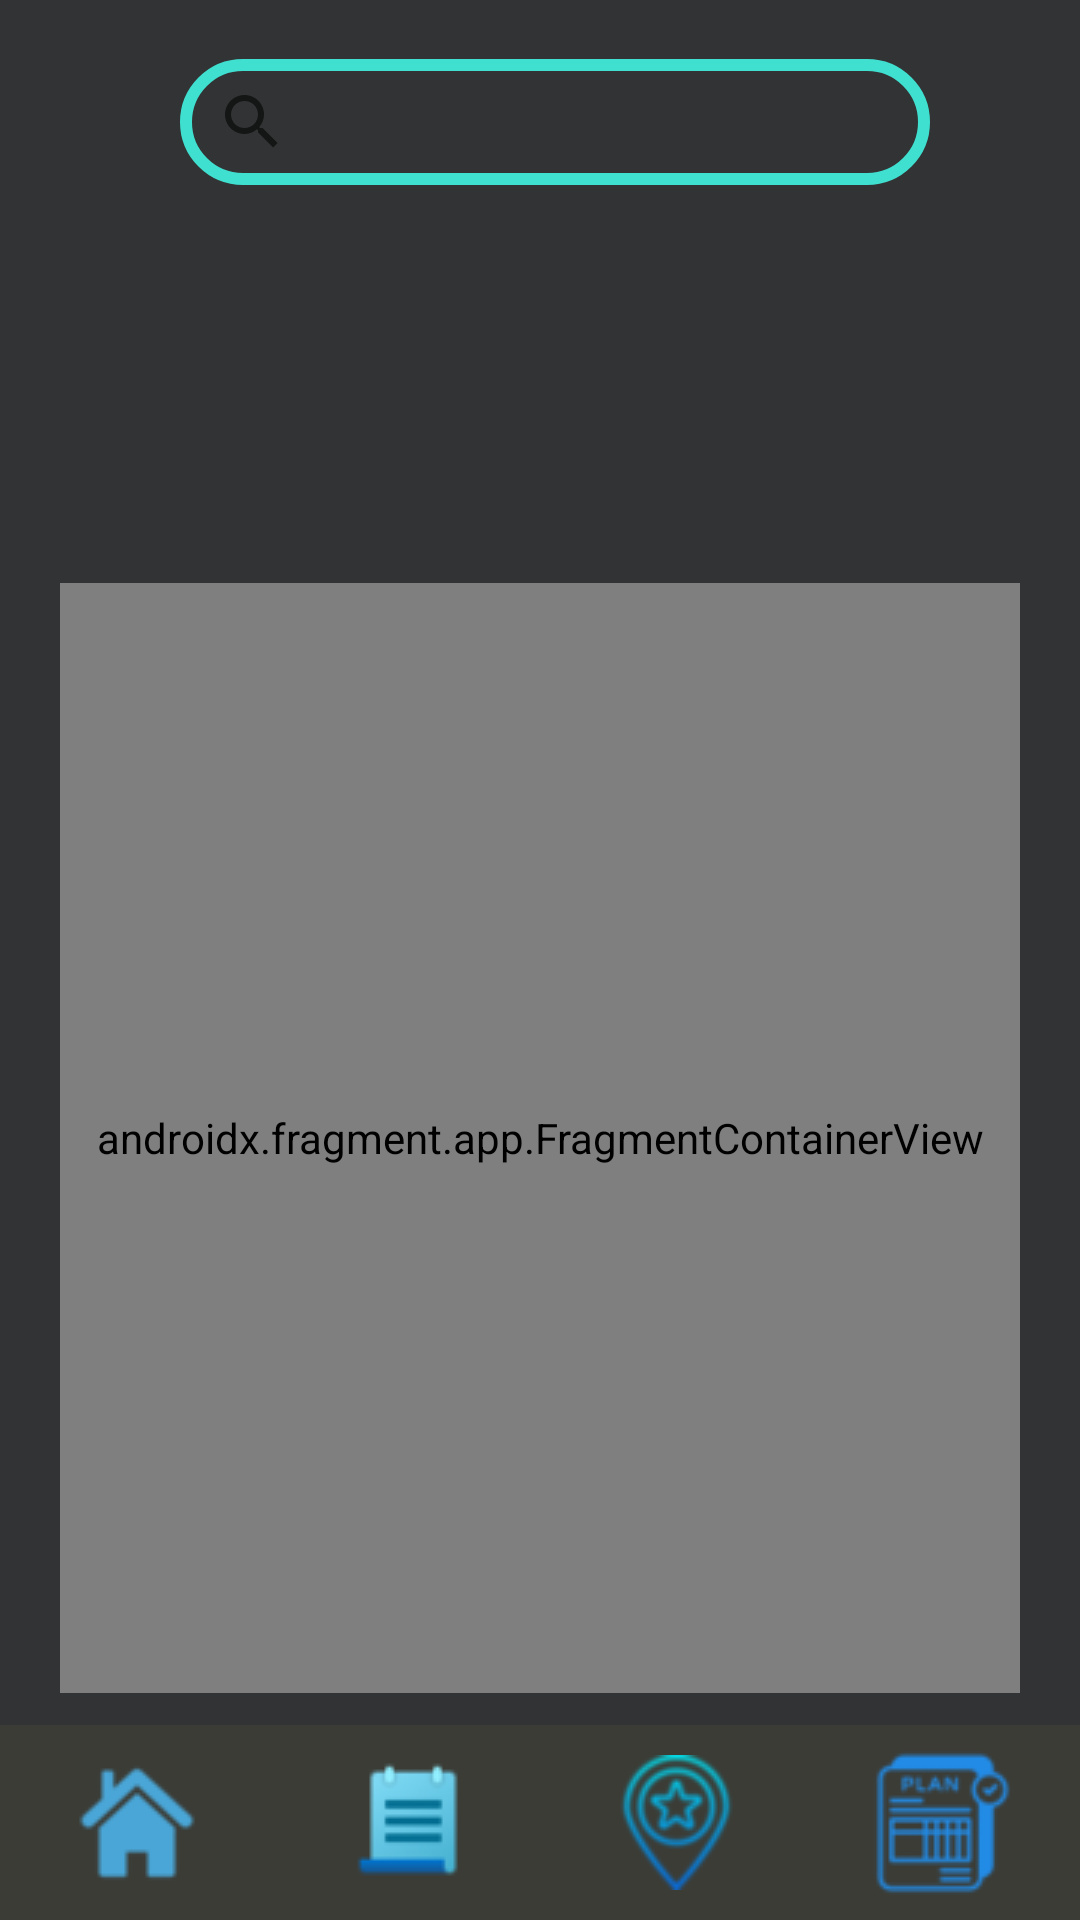

Icons on this 1080*1920 Android screen, each with its box as region(x1, y1, x2, y2):
Add Trip: region(876, 1753, 1010, 1893)
blog: region(358, 1764, 458, 1875)
Discover: region(622, 1755, 731, 1890)
home: region(80, 1768, 194, 1878)
